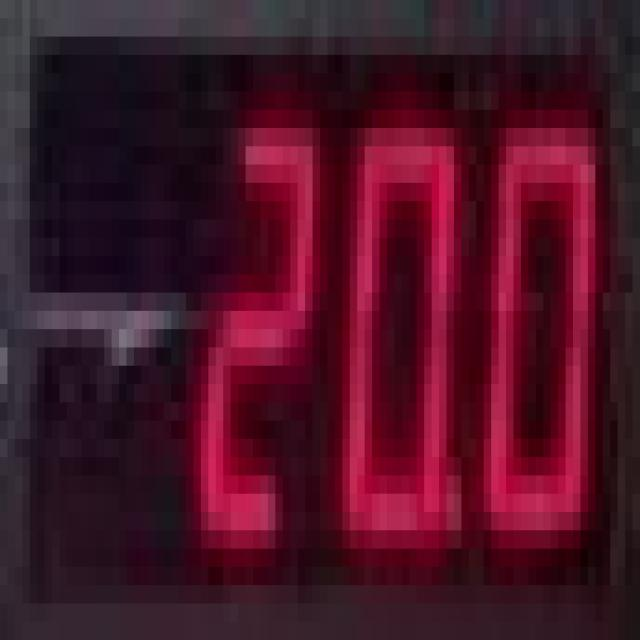.: (436, 456, 468, 542)
0: (332, 79, 468, 554), (477, 99, 605, 556)
2: (183, 90, 324, 568)
